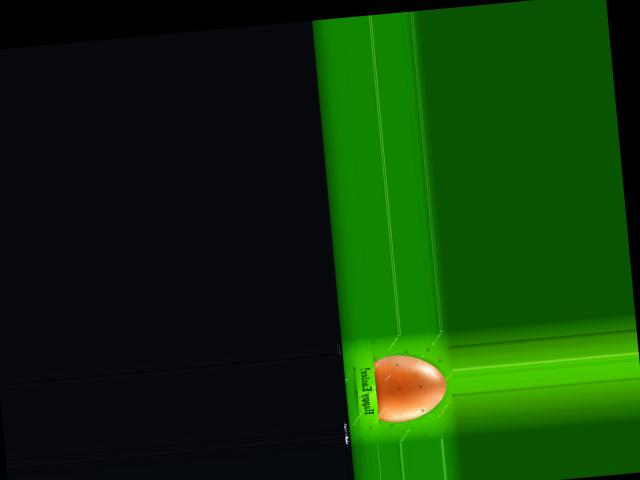egg: (373, 350, 449, 423)
